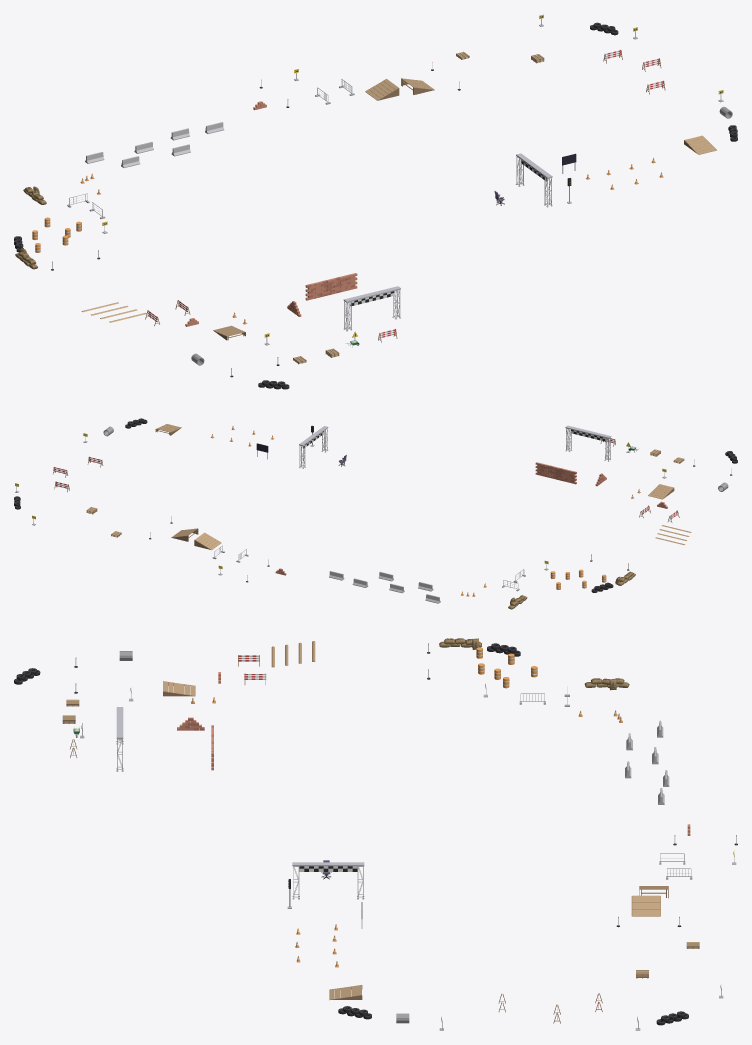
The model's file is circuit.glb.
3 views of the same model, one above another, from view 1: azimuth 30°, elevation 25°; view 2: azimuth 150°, elevation 25°; view 3: azimuth 270°, elevation 25° (orthographic). The views are drawn at different scales.
Parts seen in each view (by area): view 1: Arch_Finish, Arch_Start; view 2: Arch_Finish, Arch_Start; view 3: Arch_Start, Circuit_ramp_03.
Boxes of the visible parts, bbox=[...] form: Arch_Finish: bbox=[343, 286, 400, 331]; Arch_Start: bbox=[516, 153, 552, 207]; Arch_Finish: bbox=[565, 425, 611, 461]; Arch_Start: bbox=[299, 426, 328, 468]; Arch_Start: bbox=[292, 862, 364, 899]; Circuit_ramp_03: bbox=[631, 895, 660, 916].
Size of the model in its own units: 84.36 by 3.48 by 66.27.
27 materials, 2 textured.
